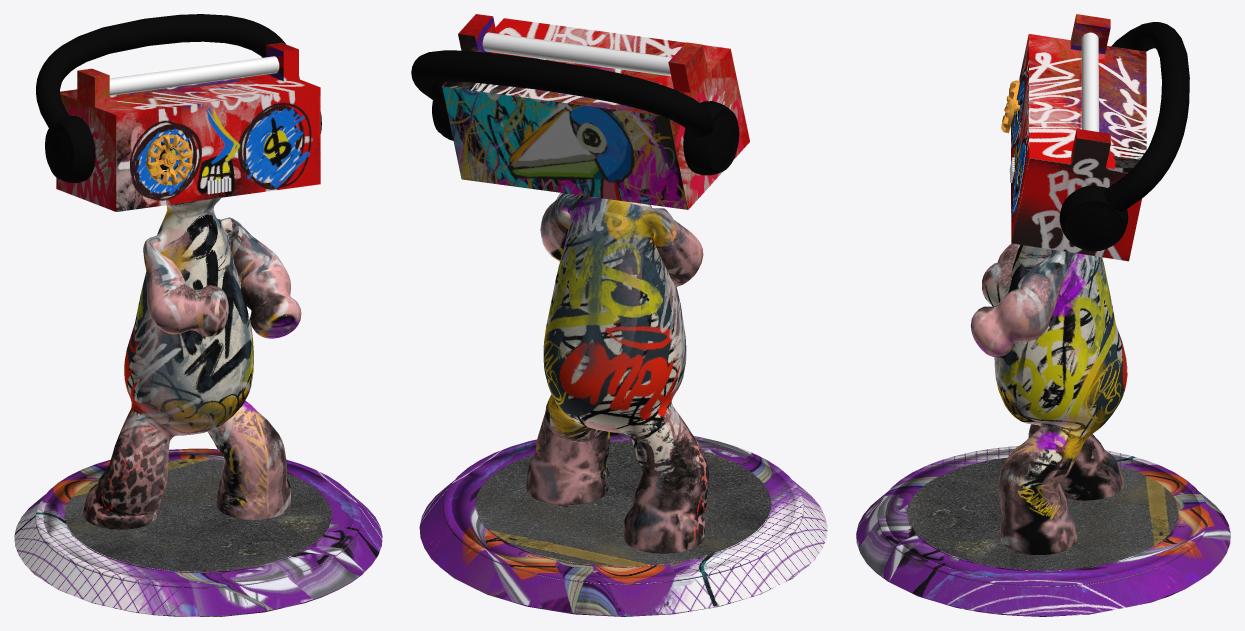
3 views of the same model, side by side, from view 1: azimuth 30°, elevation 25°; view 2: azimuth 150°, elevation 25°; view 3: azimuth 270°, elevation 25° (orthographic). The views are drawn at different scales.
Parts seen in each view (by area): view 1: BBody; view 2: BBody; view 3: BBody.
Part boxes in pixels (x1,y1,x2,y2): BBody: (14,14,382,616); BBody: (411,14,827,616); BBody: (856,14,1230,616).
Bounding box in the file's own units: 1.45 × 2.05 × 1.45.
Materials: 7 (5 with a texture image).
